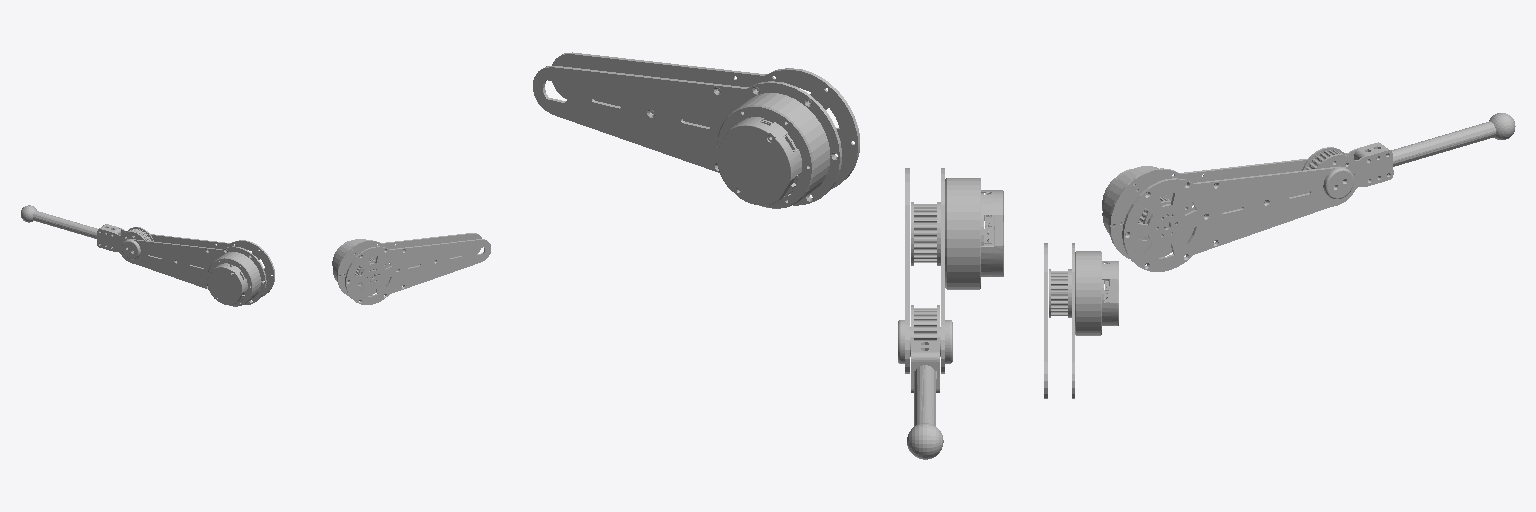
robot.urdf — TLR7_0629:
<?xml version="1.0" encoding="utf-8"?>
<!-- This URDF was automatically created by SolidWorks to URDF Exporter! Originally created by [author] ([email redacted]) 
     Commit Version: 1.6.0-4-g7f85cfe  Build Version: 1.6.7995.38578
     For more information, please see http://wiki.ros.org/sw_urdf_exporter -->
<robot
  name="TLR7_0629">
  <link
    name="Base_Link">
    <inertial>
      <origin
        xyz="0.005748 -0.0030713 0.022212"
        rpy="0 0 0" />
      <mass
        value="0.5" />
      <inertia
        ixx="0.00048"
        ixy="-2.92441E-05"
        ixz="1.75343E-06"
        iyy="0.000558771"
        iyz="2.33343E-08"
        izz="0.000767034" />
    </inertial>
    <visual>
      <origin
        xyz="0 0 0"
        rpy="0 0 0" />
      <geometry>
        <mesh
          filename="../meshes/Base_Link.STL" />
      </geometry>
      <material
        name="">
        <color
          rgba="0.75294 0.75294 0.75294 1" />
      </material>
    </visual>
    <collision>
      <origin
        xyz="0 0 0"
        rpy="0 0 0" />
      <geometry>
        <mesh
          filename="../meshes/Base_Link.STL" />
      </geometry>
    </collision>
  </link>
  <link
    name="L1_thigh_Link">
    <inertial>
      <origin
        xyz="0.021433 0.016145 -0.00023498"
        rpy="0 0 0" />
      <mass
        value="0.8" />
      <inertia
        ixx="0.000306876"
        ixy="9.92533E-08"
        ixz="1.27535E-05"
        iyy="0.001563048"
        iyz="-1.35794E-07"
        izz="0.001307657" />
    </inertial>
    <visual>
      <origin
        xyz="0 0 0"
        rpy="0 0 0" />
      <geometry>
        <mesh
          filename="../meshes/L1_thigh_Link.STL" />
      </geometry>
      <material
        name="">
        <color
          rgba="0.75294 0.75294 0.75294 1" />
      </material>
    </visual>
    <collision>
      <origin
        xyz="0 0 0"
        rpy="0 0 0" />
      <geometry>
        <mesh
          filename="../meshes/L1_thigh_Link.STL" />
      </geometry>
    </collision>
  </link>
  <joint
    name="L1_thigh_joint"
    type="revolute">
    <origin
      xyz="0.10392 0 0.0018"
      rpy="0 0 0" />
    <parent
      link="Base_Link" />
    <child
      link="L1_thigh_Link" />
    <axis
      xyz="0 1 0" />
    <limit
      lower="-1.04"
      upper="2.08"
      effort="3"
      velocity="15" />
  </joint>
  <link
    name="L1_shin_Link">
    <inertial>
      <origin
        xyz="0.039171 -0.00010523 0.010727"
        rpy="0 0 0" />
      <mass
        value="0.3" />
      <inertia
        ixx="3.41725E-05"
        ixy="1.7933E-12"
        ixz="-1.2547E-05"
        iyy="0.00031339"
        iyz="4.59085E-13"
        izz="0.00029369" />
    </inertial>
    <visual>
      <origin
        xyz="0 0 0"
        rpy="0 0 0" />
      <geometry>
        <mesh
          filename="../meshes/L1_shin_Link.STL" />
      </geometry>
      <material
        name="">
        <color
          rgba="0.75294 0.75294 0.75294 1" />
      </material>
    </visual>
    <collision>
      <origin
        xyz="0 0 0"
        rpy="0 0 0" />
      <geometry>
        <mesh
          filename="../meshes/L1_shin_Link.STL" />
      </geometry>
    </collision>
  </link>
  <joint
    name="L1_shin_joint"
    type="revolute">
    <origin
      xyz="0.18315 0 -0.0069273"
      rpy="0 0 0" />
    <parent
      link="L1_thigh_Link" />
    <child
      link="L1_shin_Link" />
    <axis
      xyz="0 1 0" />
    <limit
      lower="0"
      upper="2.71"
      effort="3.49"
      velocity="15" />
  </joint>
  <link
    name="L2_thigh_Link">
    <inertial>
      <origin
        xyz="-0.024699 0.010489 -0.00023498"
        rpy="0 0 0" />
      <mass
        value="0.8" />
      <inertia
        ixx="0.001249105"
        ixy="0.000543886"
        ixz="-6.25905E-06"
        iyy="0.000620838"
        iyz="1.1128E-05"
        izz="0.001307657" />
    </inertial>
    <visual>
      <origin
        xyz="0 0 0"
        rpy="0 0 0" />
      <geometry>
        <mesh
          filename="../meshes/L2_thigh_Link.STL" />
      </geometry>
      <material
        name="">
        <color
          rgba="0.75294 0.75294 0.75294 1" />
      </material>
    </visual>
    <collision>
      <origin
        xyz="0 0 0"
        rpy="0 0 0" />
      <geometry>
        <mesh
          filename="../meshes/L2_thigh_Link.STL" />
      </geometry>
    </collision>
  </link>
  <joint
    name="L2_thigh_joint"
    type="revolute">
    <origin
      xyz="-0.051961 0.09 0.0018"
      rpy="0 0 0" />
    <parent
      link="Base_Link" />
    <child
      link="L2_thigh_Link" />
    <axis
      xyz="-0.86603 -0.5 0" />
    <limit
      lower="-1.04"
      upper="2.08"
      effort="3"
      velocity="15" />
  </joint>
  <link
    name="L2_shin_Link">
    <inertial>
      <origin
        xyz="-0.019494 0.033976 0.010727"
        rpy="0 0 0" />
      <mass
        value="0.3" />
      <inertia
        ixx="0.000243585"
        ixy="0.000120905"
        ixz="6.2735E-06"
        iyy="0.000103975"
        iyz="-1.0866E-05"
        izz="0.00029369" />
    </inertial>
    <visual>
      <origin
        xyz="0 0 0"
        rpy="0 0 0" />
      <geometry>
        <mesh
          filename="../meshes/L2_shin_Link.STL" />
      </geometry>
      <material
        name="">
        <color
          rgba="0.75294 0.75294 0.75294 1" />
      </material>
    </visual>
    <collision>
      <origin
        xyz="0 0 0"
        rpy="0 0 0" />
      <geometry>
        <mesh
          filename="../meshes/L2_shin_Link.STL" />
      </geometry>
    </collision>
  </link>
  <joint
    name="L2_shin_joint"
    type="revolute">
    <origin
      xyz="-0.091574 0.15861 -0.0069273"
      rpy="0 0 0" />
    <parent
      link="L2_thigh_Link" />
    <child
      link="L2_shin_Link" />
    <axis
      xyz="-0.86603 -0.5 0" />
    <limit
      lower="0"
      upper="2.71"
      effort="3.49"
      velocity="15" />
  </joint>
  <link
    name="L3_thigh_Link">
    <inertial>
      <origin
        xyz="0.0032656 -0.026634 -0.00023498"
        rpy="0 0 0" />
      <mass
        value="0.8" />
      <inertia
        ixx="0.001248914"
        ixy="-0.000544"
        ixz="-6.49448E-06"
        iyy="0.00062099"
        iyz="-1.09768E-05"
        izz="0.001307657" />
    </inertial>
    <visual>
      <origin
        xyz="0 0 0"
        rpy="0 0 0" />
      <geometry>
        <mesh
          filename="../meshes/L3_thigh_Link.STL" />
      </geometry>
      <material
        name="">
        <color
          rgba="0.75294 0.75294 0.75294 1" />
      </material>
    </visual>
    <collision>
      <origin
        xyz="0 0 0"
        rpy="0 0 0" />
      <geometry>
        <mesh
          filename="../meshes/L3_thigh_Link.STL" />
      </geometry>
    </collision>
  </link>
  <joint
    name="L3_thigh_joint"
    type="revolute">
    <origin
      xyz="-0.051962 -0.09 0.0018"
      rpy="0 0 0" />
    <parent
      link="Base_Link" />
    <child
      link="L3_thigh_Link" />
    <axis
      xyz="0.86603 -0.5 0" />
    <limit
      lower="-1.04"
      upper="2.08"
      effort="3"
      velocity="15" />
  </joint>
  <link
    name="L3_shin_Link">
    <inertial>
      <origin
        xyz="-0.019677 -0.033871 0.010727"
        rpy="0 0 0" />
      <mass
        value="0.3" />
      <inertia
        ixx="0.000243585"
        ixy="-0.000120905"
        ixz="6.2735E-06"
        iyy="0.000103975"
        iyz="1.0866E-05"
        izz="0.00029369" />
    </inertial>
    <visual>
      <origin
        xyz="0 0 0"
        rpy="0 0 0" />
      <geometry>
        <mesh
          filename="../meshes/L3_shin_Link.STL" />
      </geometry>
      <material
        name="">
        <color
          rgba="0.75294 0.75294 0.75294 1" />
      </material>
    </visual>
    <collision>
      <origin
        xyz="0 0 0"
        rpy="0 0 0" />
      <geometry>
        <mesh
          filename="../meshes/L3_shin_Link.STL" />
      </geometry>
    </collision>
  </link>
  <joint
    name="L3_shin_joint"
    type="revolute">
    <origin
      xyz="-0.091574 -0.15861 -0.0069273"
      rpy="0 0 0" />
    <parent
      link="L3_thigh_Link" />
    <child
      link="L3_shin_Link" />
    <axis
      xyz="0.86603 -0.5 0" />
    <limit
      lower="0"
      upper="2.71"
      effort="3.49"
      velocity="15" />
  </joint>
</robot>

--- Render facts (derived) ---
3 views of the same robot in one strip: view 1: azimuth 30°, elevation 25°; view 2: azimuth 150°, elevation 25°; view 3: azimuth 270°, elevation 25° (orthographic).
Model TLR7_0629 with 7 links and 6 joints (6 revolute), rooted at Base_Link, posed every joint at zero.
Visible links, largest first — view 1: L1_thigh_Link, L2_thigh_Link, L2_shin_Link; view 2: L1_thigh_Link, L2_thigh_Link, L2_shin_Link; view 3: L2_thigh_Link, L1_thigh_Link, L2_shin_Link.
Link boxes in pixels (x1,y1,x2,y2): L1_thigh_Link: (332,233,490,304); L2_thigh_Link: (120,234,274,306); L2_shin_Link: (21,205,153,263); L1_thigh_Link: (533,52,859,208); L2_thigh_Link: (905,168,1003,373); L2_shin_Link: (898,305,952,459); L2_thigh_Link: (1102,158,1355,271); L1_thigh_Link: (1044,243,1118,398); L2_shin_Link: (1302,113,1515,206).
Size in the robot's own frame: 0.5429 by 0.4243 by 0.09 metres.
3 mesh visuals loaded from 7 distinct referenced files (3 binary STL); not drawn: 4 (reference not matched to a file when rendering).